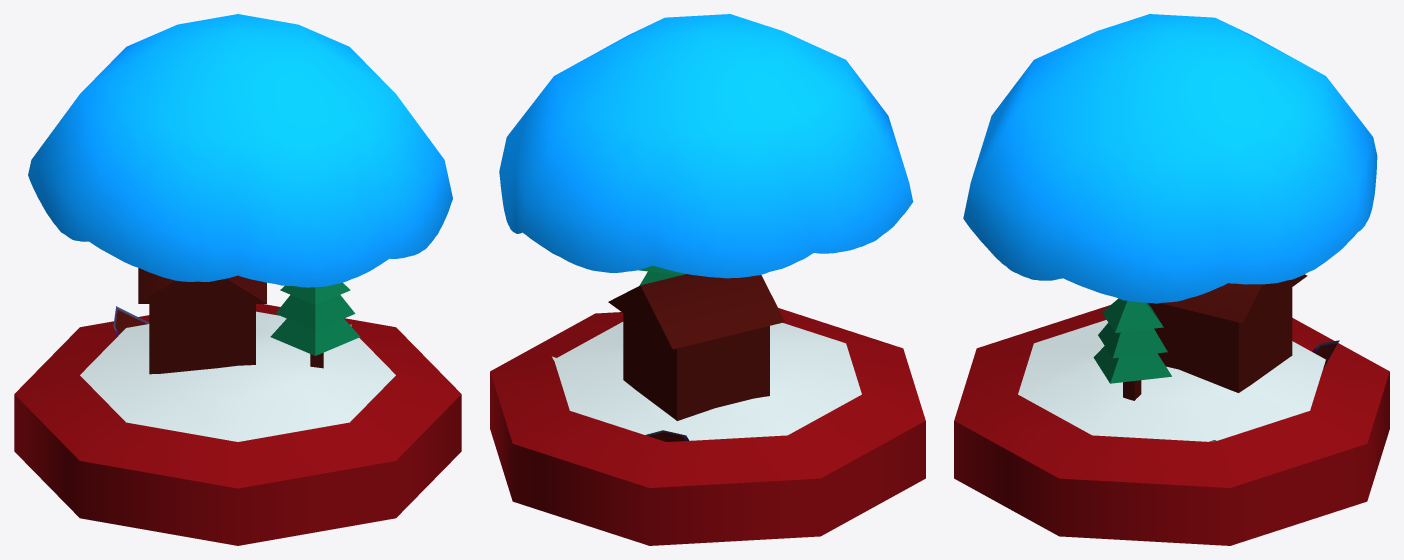
Rendered from SnowBall_Art.fbx.
The picture shows the model from 3 angles, left to right: view 1: azimuth 30°, elevation 25°; view 2: azimuth 150°, elevation 25°; view 3: azimuth 270°, elevation 25°; orthographic projection.
Parts seen in each view (by area): view 1: SnowBall_Art; view 2: SnowBall_Art; view 3: SnowBall_Art.
Part boxes in pixels (box(x1,y1,x2,y2)): SnowBall_Art: box(14, 14, 461, 545); SnowBall_Art: box(490, 14, 925, 545); SnowBall_Art: box(954, 14, 1389, 545).
Size of the model in its own units: 0.4252 by 0.4525 by 0.4252.
